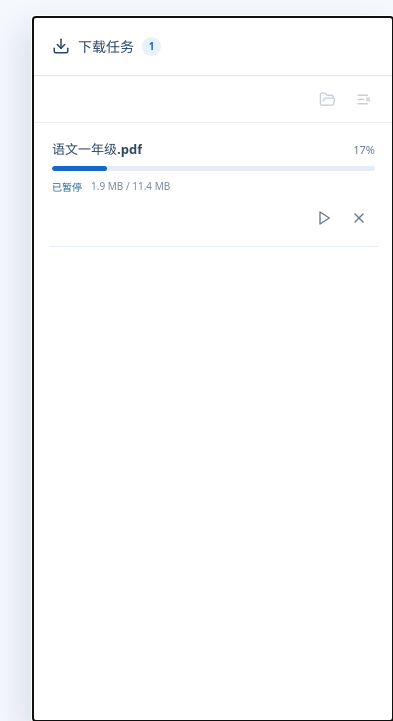
Test case: removes a canceled task and requests partial-file cleanup
Step 1. Click the button named "取消 语文一年级" → x=359, y=218, box [343,202,375,234]
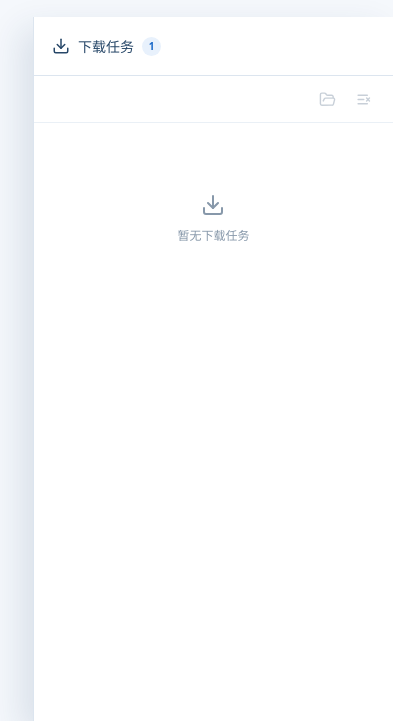
Expected: the text "语文一年级.pdf" is gone
